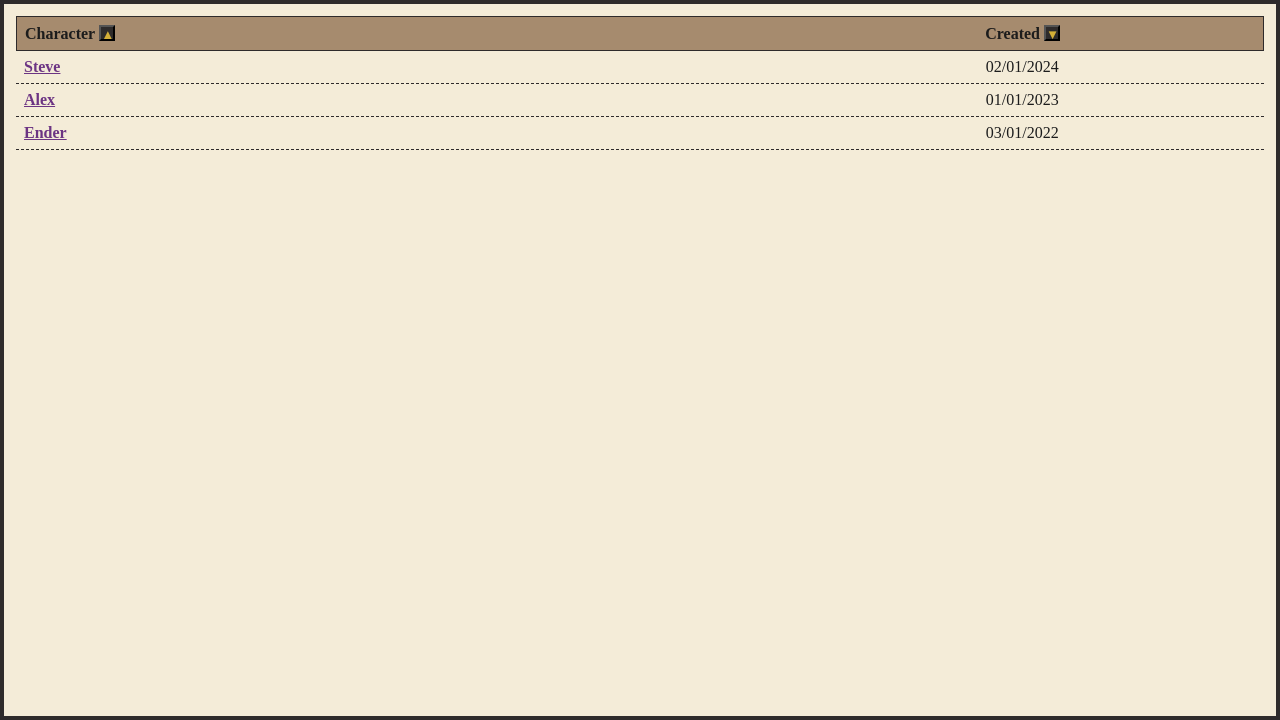
Scenario: Characters can be sorted
The image size is (1280, 720).
Expected: the link "Steve" is shown, [24,59,60,75]
Click the button "▲".
click(107, 33)  # box [99,25,115,41]
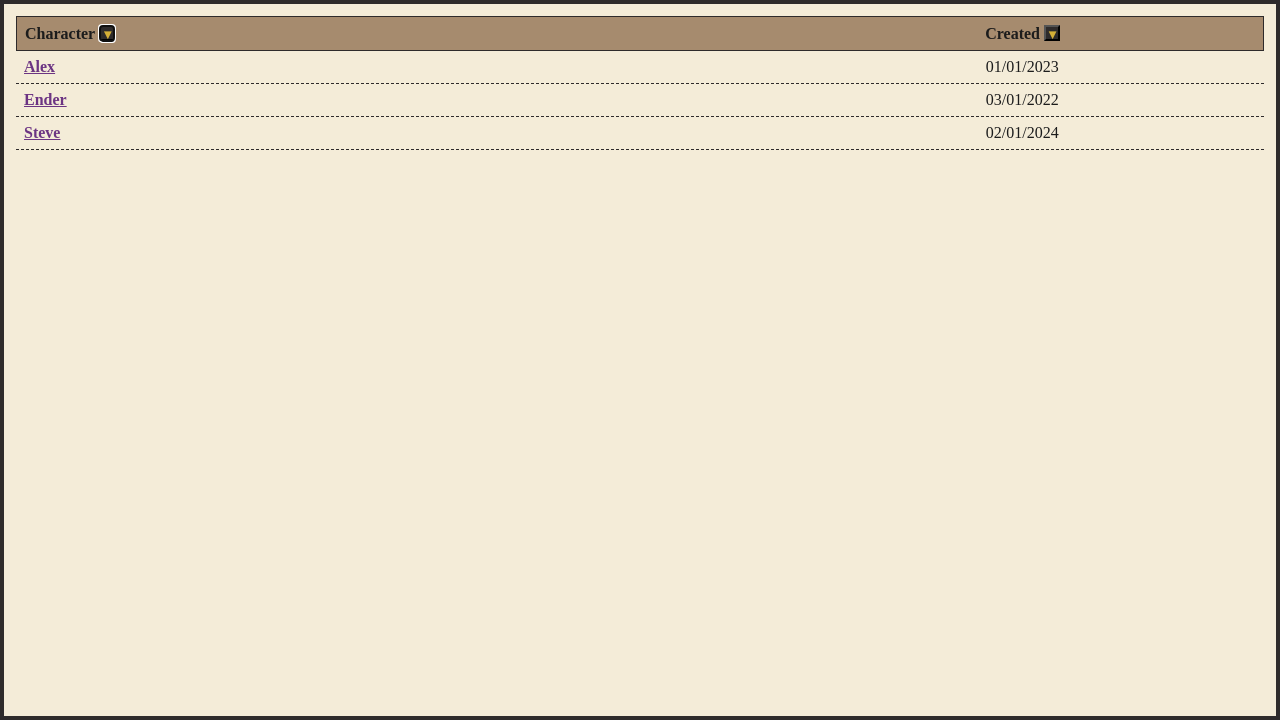
Expected: the links read "Alex", "Ender", "Steve", in this order, [24,59,55,75]; [24,92,67,108]; [24,125,60,141]
